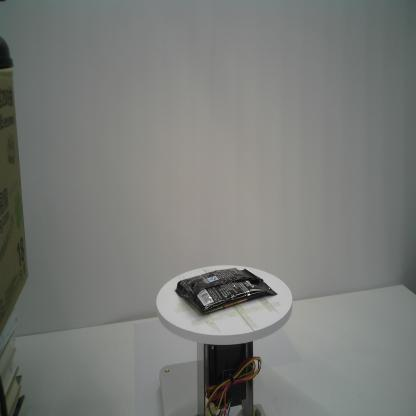Instant Drink: (175, 268, 278, 314)
